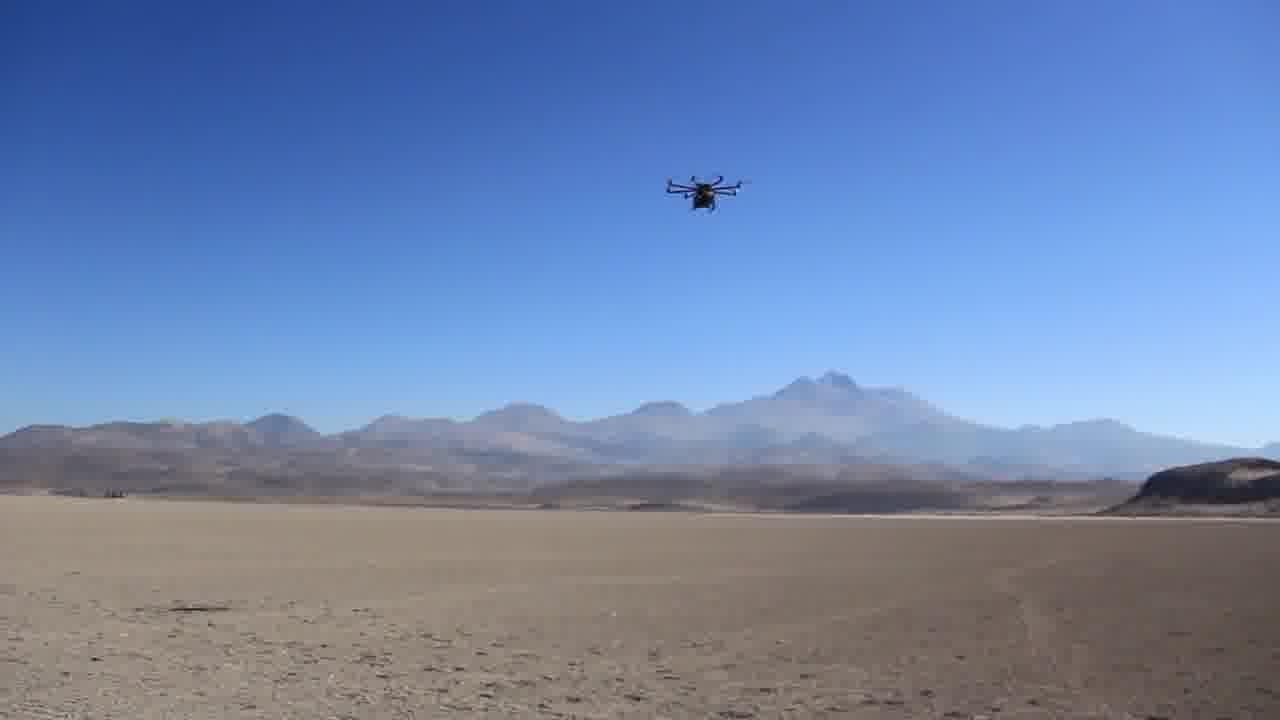drone: (657, 166, 752, 218)
